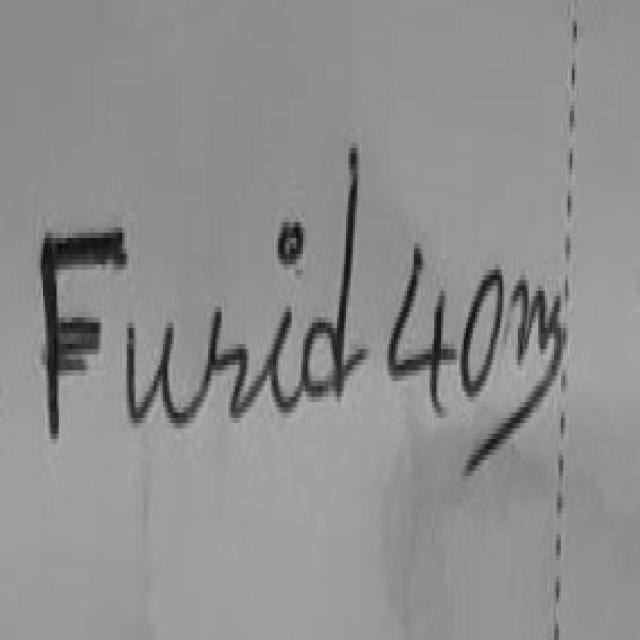0: (464, 270, 506, 394)
4: (389, 249, 457, 410)
F: (43, 233, 126, 436)
d: (302, 150, 358, 404)
i: (248, 310, 302, 413), (278, 222, 305, 264)
m: (513, 280, 568, 391)
r: (193, 312, 252, 422)
u: (126, 322, 194, 428)
